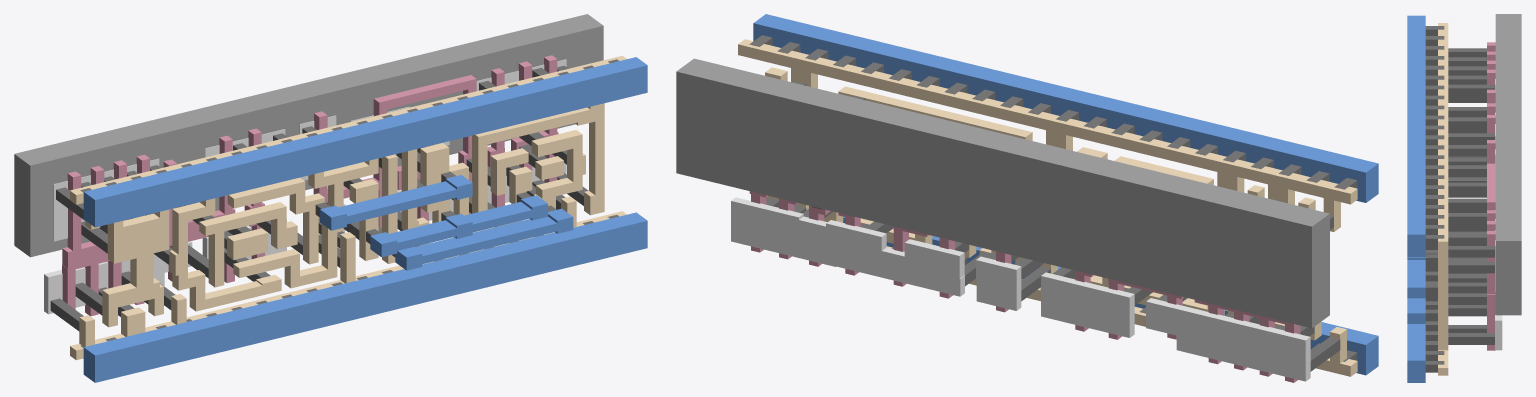
The model's file is sky130_fd_sc_hd__xor3_4.gds.gltf.
The picture shows the model from 3 angles, left to right: view 1: azimuth 30°, elevation 25°; view 2: azimuth 150°, elevation 25°; view 3: azimuth 270°, elevation 25°; orthographic projection. The views are drawn at different scales.
Parts seen in each view (by area): view 1: sky130_fd_sc_hd__xor3_4_met1, sky130_fd_sc_hd__xor3_4_li1, sky130_fd_sc_hd__xor3_4_nwell, sky130_fd_sc_hd__xor3_4_poly, sky130_fd_sc_hd__xor3_4_licon, sky130_fd_sc_hd__xor3_4_diff, sky130_fd_sc_hd__xor3_4_mcon; view 2: sky130_fd_sc_hd__xor3_4_nwell, sky130_fd_sc_hd__xor3_4_diff, sky130_fd_sc_hd__xor3_4_met1, sky130_fd_sc_hd__xor3_4_li1, sky130_fd_sc_hd__xor3_4_mcon, sky130_fd_sc_hd__xor3_4_poly, sky130_fd_sc_hd__xor3_4_licon; view 3: sky130_fd_sc_hd__xor3_4_licon, sky130_fd_sc_hd__xor3_4_nwell, sky130_fd_sc_hd__xor3_4_met1, sky130_fd_sc_hd__xor3_4_mcon, sky130_fd_sc_hd__xor3_4_li1, sky130_fd_sc_hd__xor3_4_poly, sky130_fd_sc_hd__xor3_4_diff.
Boxes of the visible parts, left/top/right/bottom form: sky130_fd_sc_hd__xor3_4_met1: left=83, top=57, right=647, bottom=382; sky130_fd_sc_hd__xor3_4_li1: left=70, top=55, right=626, bottom=360; sky130_fd_sc_hd__xor3_4_nwell: left=14, top=14, right=603, bottom=257; sky130_fd_sc_hd__xor3_4_poly: left=62, top=55, right=558, bottom=316; sky130_fd_sc_hd__xor3_4_licon: left=50, top=65, right=588, bottom=331; sky130_fd_sc_hd__xor3_4_diff: left=44, top=59, right=566, bottom=314; sky130_fd_sc_hd__xor3_4_mcon: left=80, top=59, right=618, bottom=347; sky130_fd_sc_hd__xor3_4_nwell: left=676, top=58, right=1329, bottom=328; sky130_fd_sc_hd__xor3_4_diff: left=731, top=197, right=1310, bottom=381; sky130_fd_sc_hd__xor3_4_met1: left=753, top=14, right=1378, bottom=375; sky130_fd_sc_hd__xor3_4_li1: left=738, top=39, right=1357, bottom=376; sky130_fd_sc_hd__xor3_4_mcon: left=749, top=35, right=1357, bottom=361; sky130_fd_sc_hd__xor3_4_poly: left=749, top=191, right=1300, bottom=382; sky130_fd_sc_hd__xor3_4_licon: left=766, top=81, right=1340, bottom=371; sky130_fd_sc_hd__xor3_4_licon: left=1448, top=48, right=1494, bottom=344; sky130_fd_sc_hd__xor3_4_nwell: left=1495, top=14, right=1521, bottom=315; sky130_fd_sc_hd__xor3_4_met1: left=1407, top=15, right=1425, bottom=382; sky130_fd_sc_hd__xor3_4_mcon: left=1425, top=26, right=1444, bottom=372; sky130_fd_sc_hd__xor3_4_li1: left=1438, top=23, right=1448, bottom=375; sky130_fd_sc_hd__xor3_4_poly: left=1487, top=42, right=1495, bottom=350; sky130_fd_sc_hd__xor3_4_diff: left=1495, top=79, right=1502, bottom=350.
Size of the model in its own units: 10.5 by 3.2 by 2.24.
